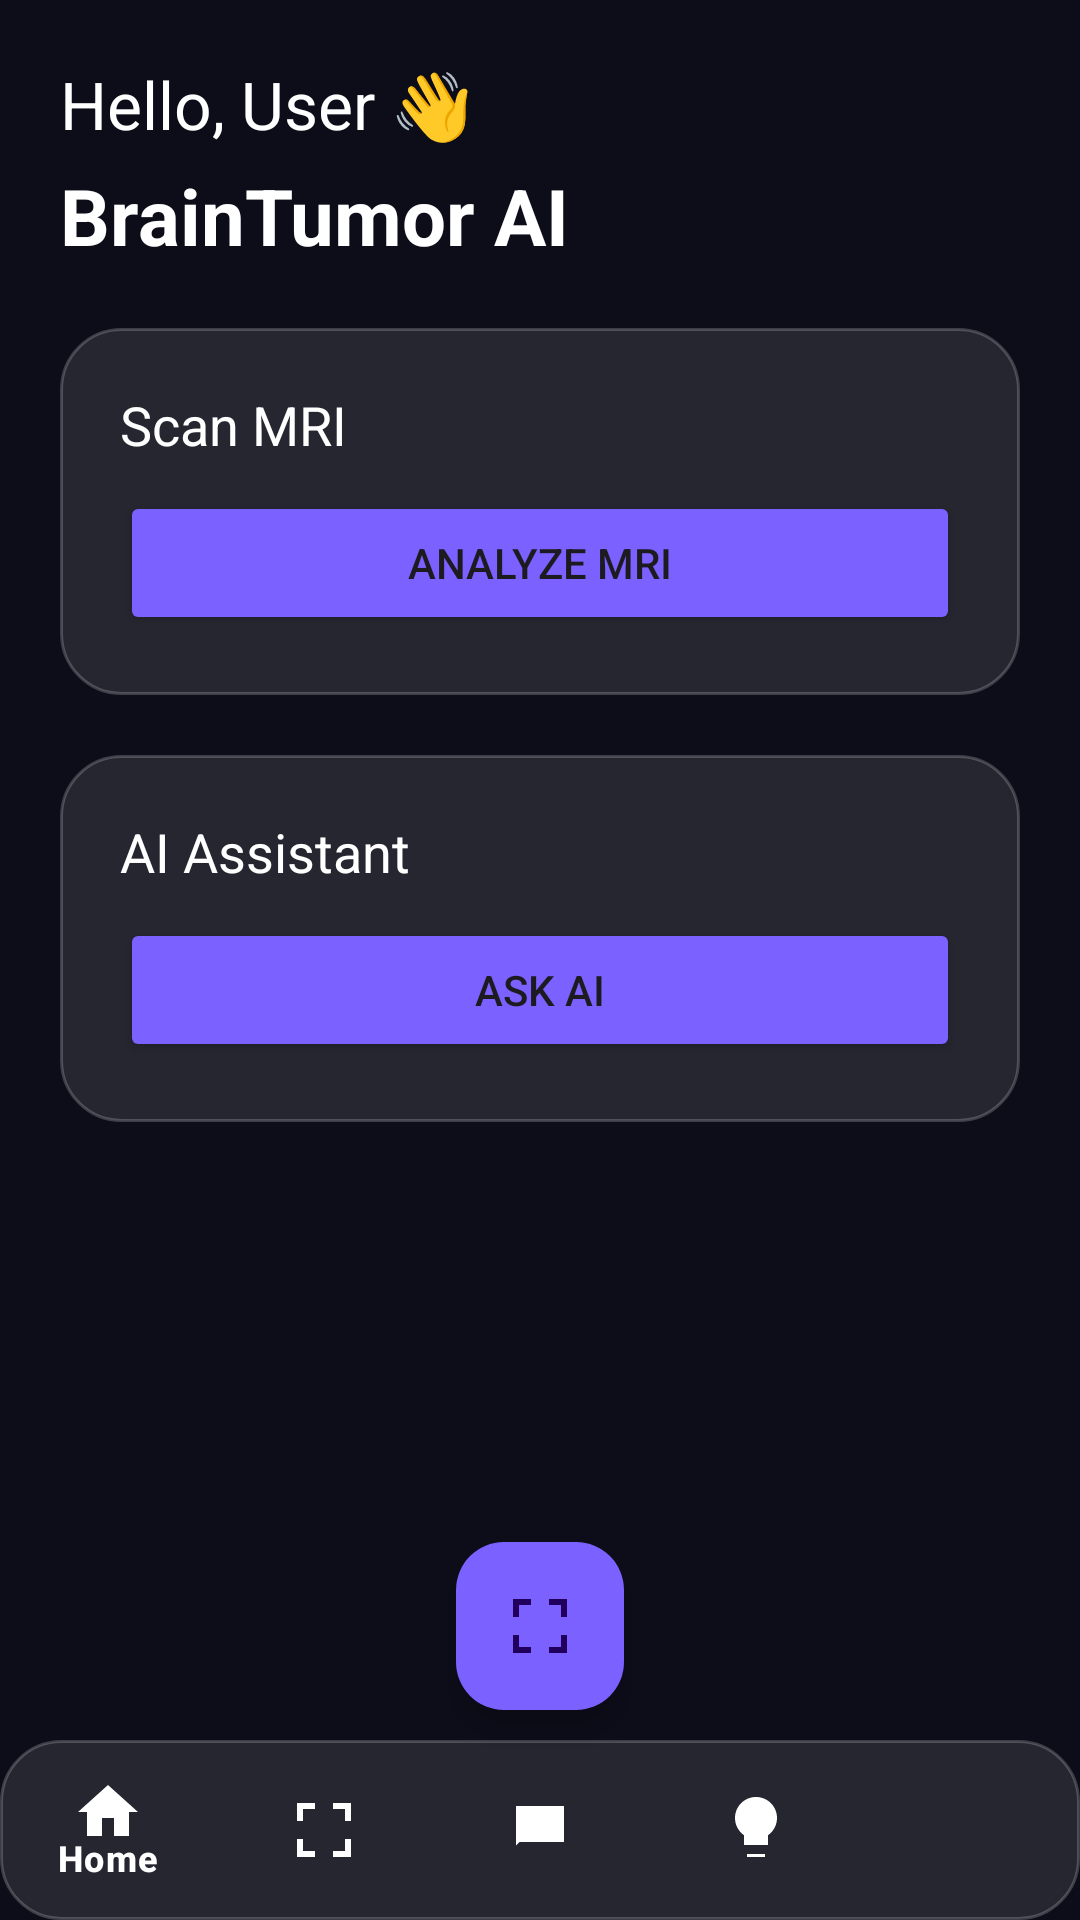

Point at icon controls on the screen. Image size 1080x1920, points as point (x, y).
scan: point (540, 1626)
